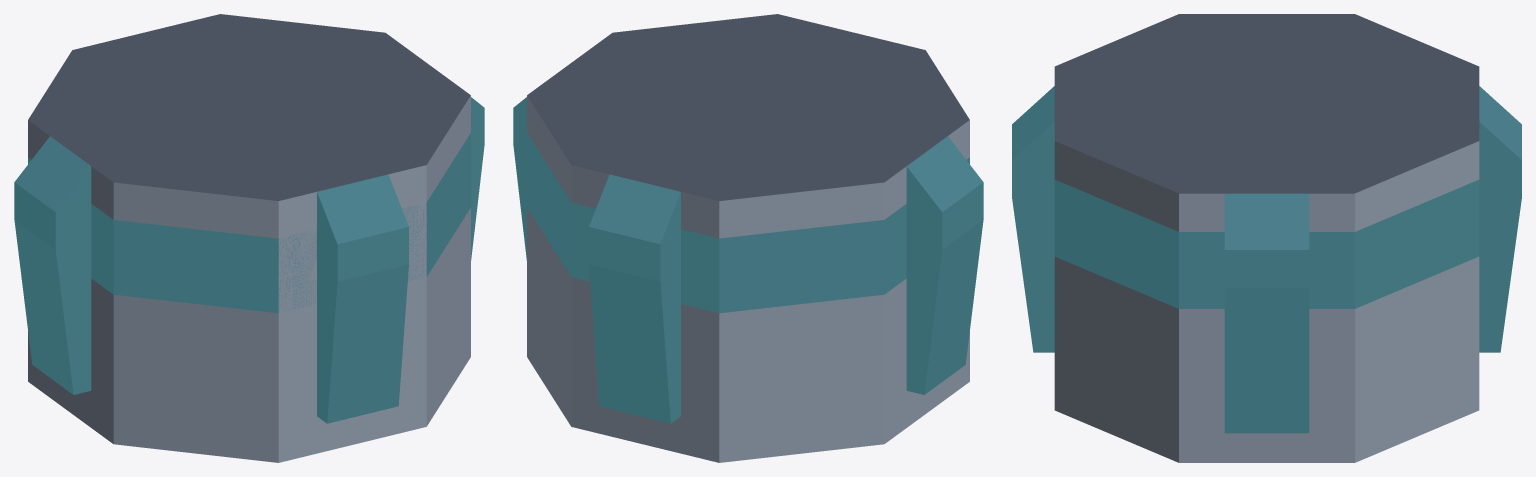
Rendered from rocket_finsA.glb.
The picture shows the model from 3 angles, left to right: view 1: azimuth 30°, elevation 25°; view 2: azimuth 150°, elevation 25°; view 3: azimuth 270°, elevation 25°; orthographic projection. The views are drawn at different scales.
Visible parts, largest first — view 1: rocket_finsA; view 2: rocket_finsA; view 3: rocket_finsA.
Boxes of the visible parts, bbox=[...] form: rocket_finsA: bbox=[14, 14, 484, 462]; rocket_finsA: bbox=[513, 14, 983, 462]; rocket_finsA: bbox=[1012, 14, 1521, 462].
Bounding box in the file's own units: 1.2 × 0.7 × 1.2.
